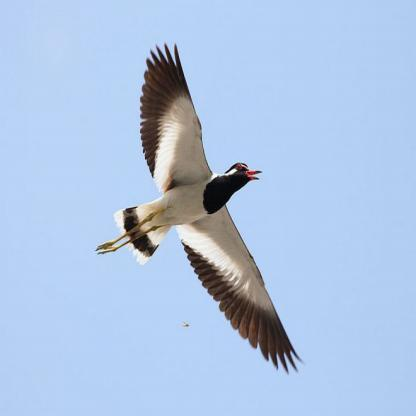Burung: (94, 43, 305, 375)
